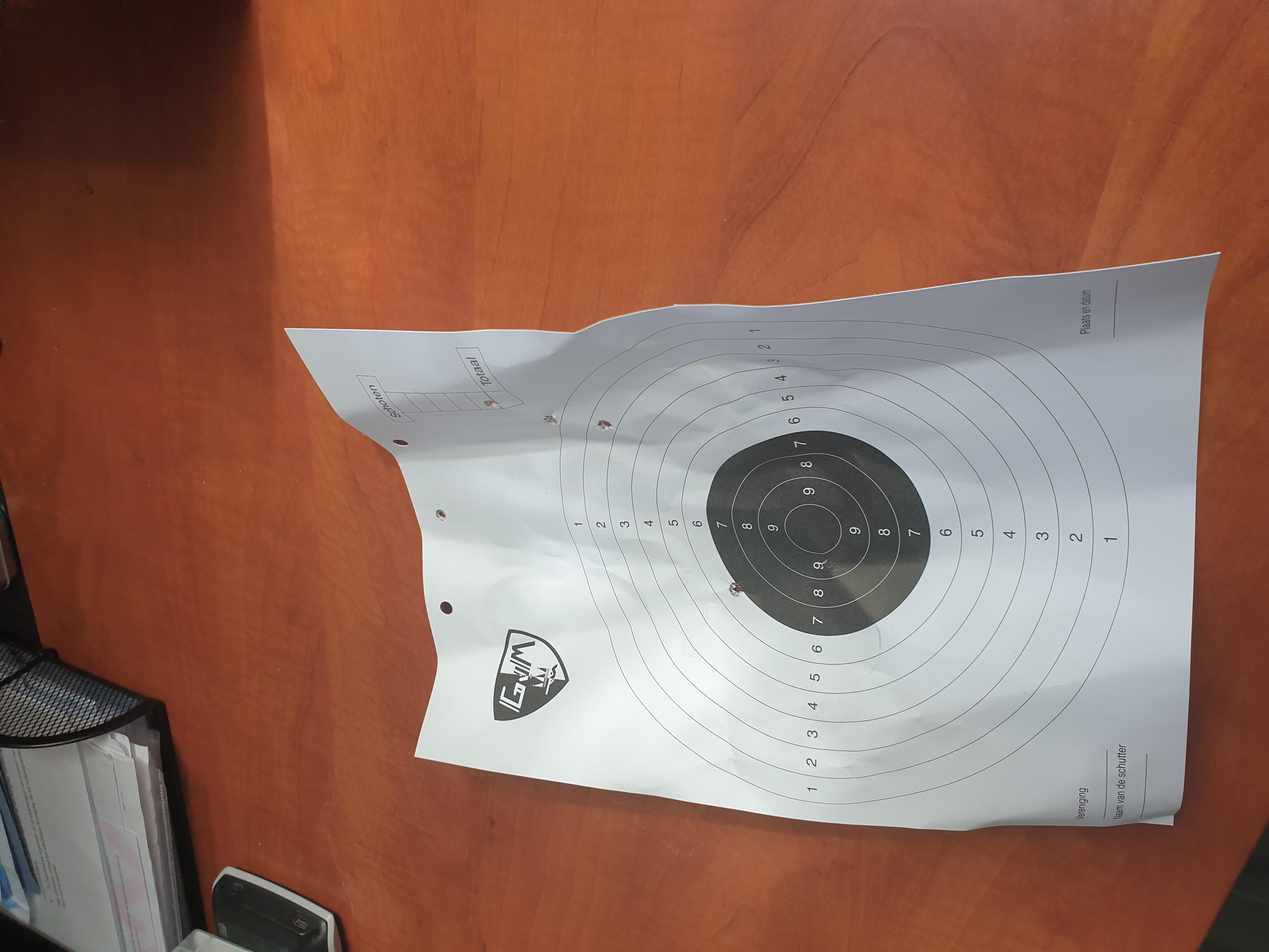hole: (523, 354, 542, 371), (709, 526, 728, 539), (654, 520, 672, 533), (767, 542, 786, 553), (823, 430, 835, 444)
